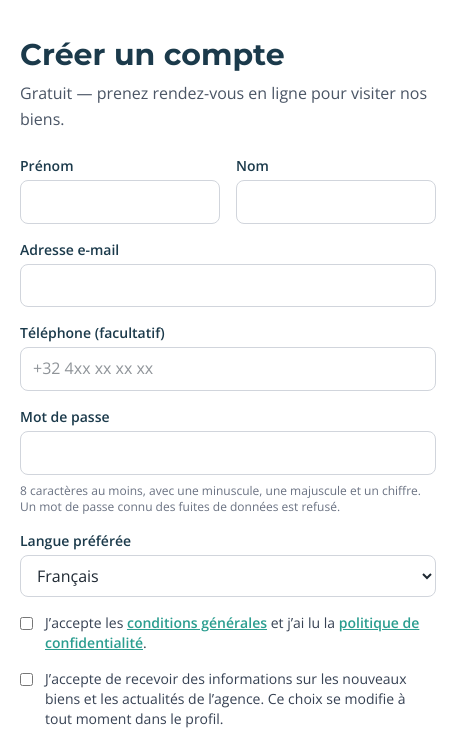
Test: Inscription (cas M1) › refuse un mot de passe faible et exige les conditions générales
Type "Test" into the field labelled "Prénom".
click(120, 202); type("Test")  # box 20,180 -> 220,224
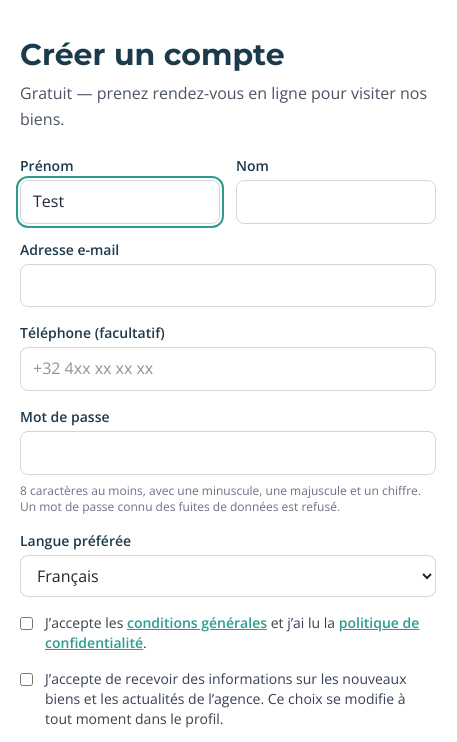
Type "Vitest" into the field labelled "Nom".
click(336, 202); type("Vitest")  # box 236,180 -> 436,224
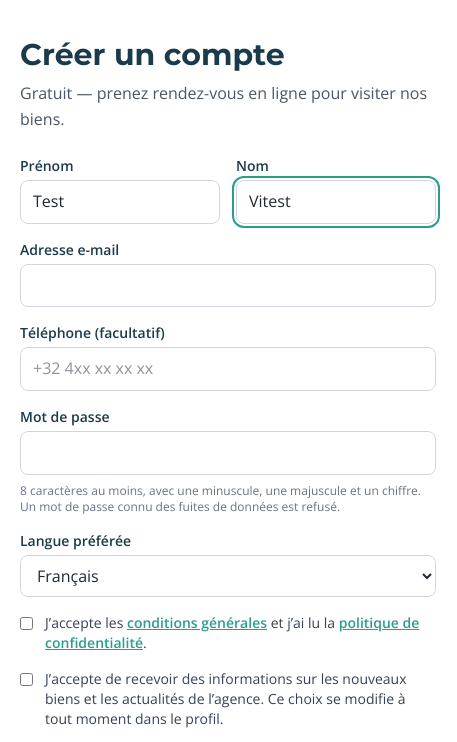
Type "test@essai.be" into the field labelled "Adresse e-mail".
click(228, 286); type("test@essai.be")  # box 20,264 -> 436,307
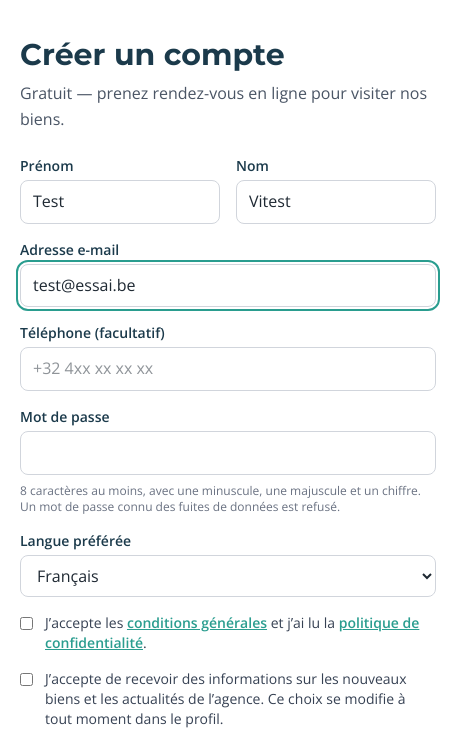
Type "password" into the password field labelled "Mot de passe".
click(228, 453); type("password")  # box 20,431 -> 436,475
(page scrolled)
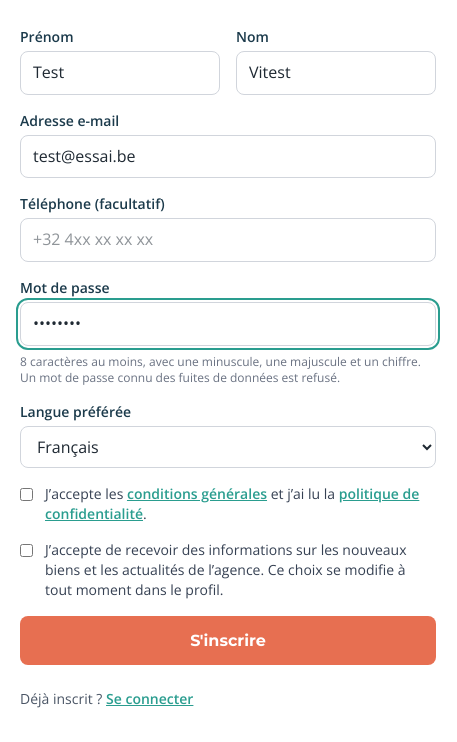
Click the button "S'inscrire".
click(228, 640)  # box 20,616 -> 436,665
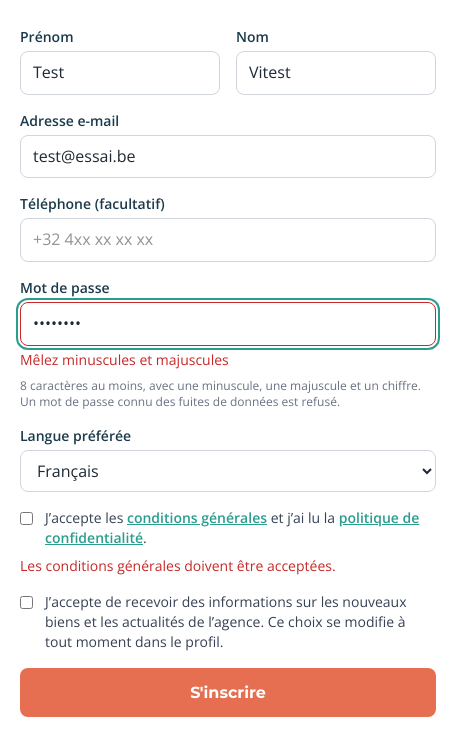
Check: the text "Mêlez minuscules et majuscules" is shown, box 20,350 -> 229,369
Check: the text "Les conditions générales doivent être acceptées." is shown, box 20,556 -> 336,575
